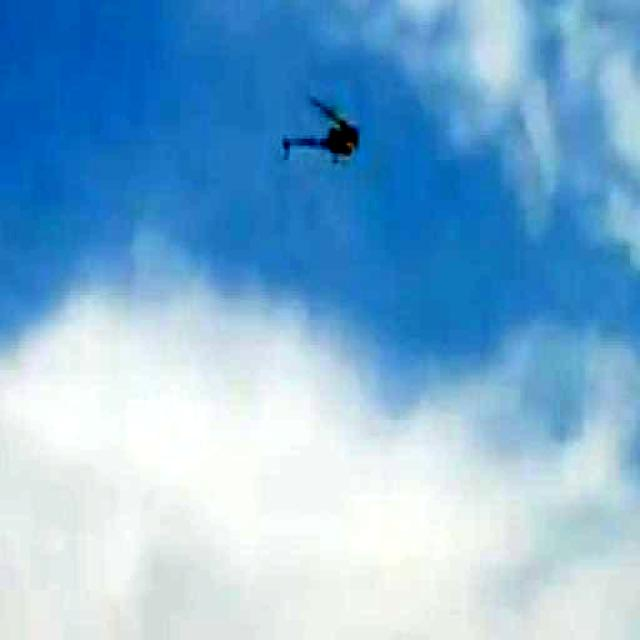drone: (280, 89, 366, 171)
